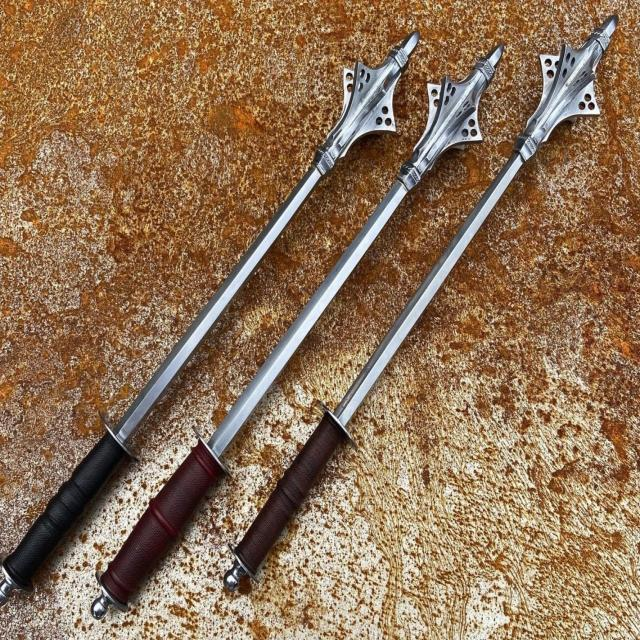mace: (1, 27, 421, 597), (95, 41, 505, 614), (224, 13, 621, 593)
